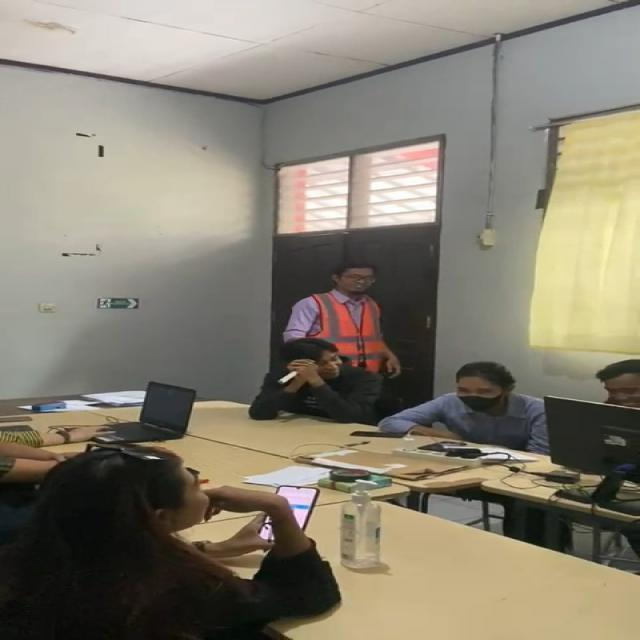no-vest: (411, 384, 556, 460), (257, 367, 379, 419)
vest: (56, 438, 208, 530), (304, 292, 390, 372), (457, 354, 511, 400), (282, 338, 344, 368), (332, 252, 382, 288), (593, 359, 640, 395)
